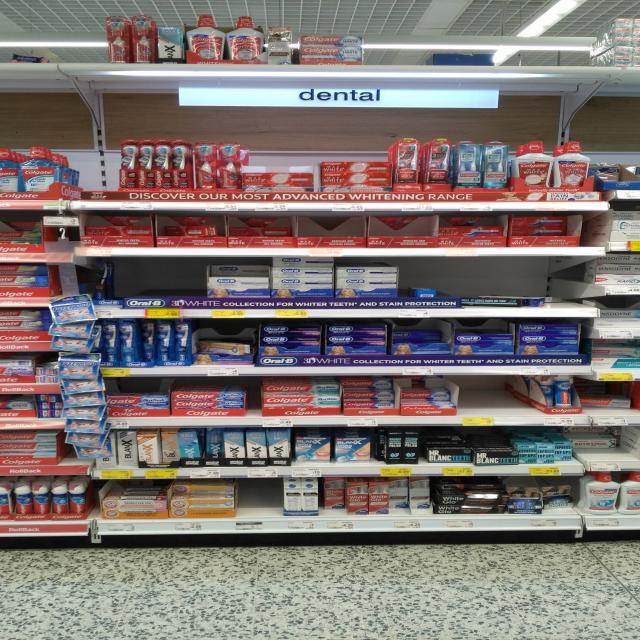unorganised: (262, 378, 341, 407), (345, 381, 392, 412), (514, 215, 576, 238), (157, 215, 227, 235), (195, 334, 252, 357), (544, 376, 574, 409), (174, 481, 235, 497), (320, 478, 347, 514), (571, 430, 617, 451), (542, 483, 576, 509), (228, 223, 294, 236), (394, 328, 446, 344), (388, 477, 410, 513), (210, 263, 269, 276), (82, 215, 150, 226), (442, 214, 499, 227), (3, 221, 44, 237), (400, 390, 450, 403), (202, 429, 222, 460), (403, 287, 436, 297)
